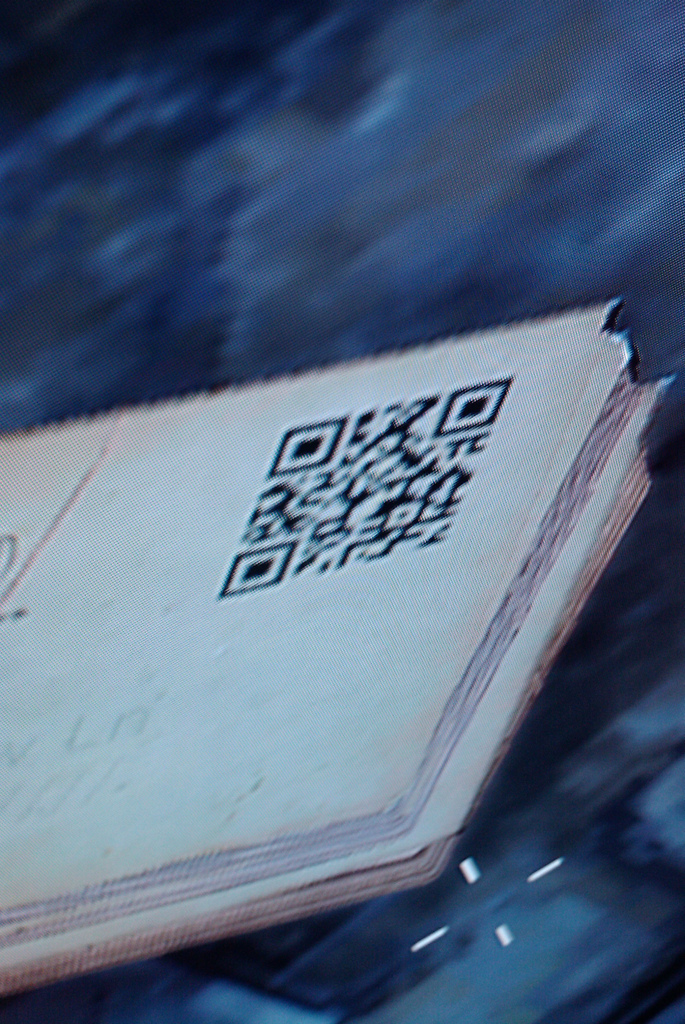QR-CODE: (218, 376, 514, 598)
